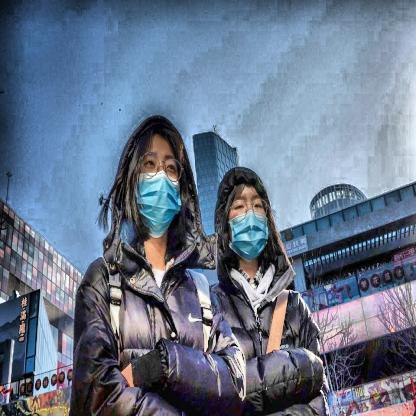not_wear: (127, 123, 190, 247), (220, 170, 270, 263)
